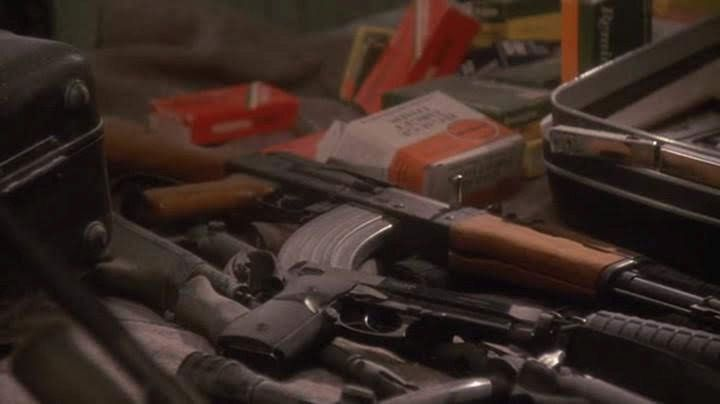gun: (94, 95, 684, 301), (233, 254, 556, 370)
